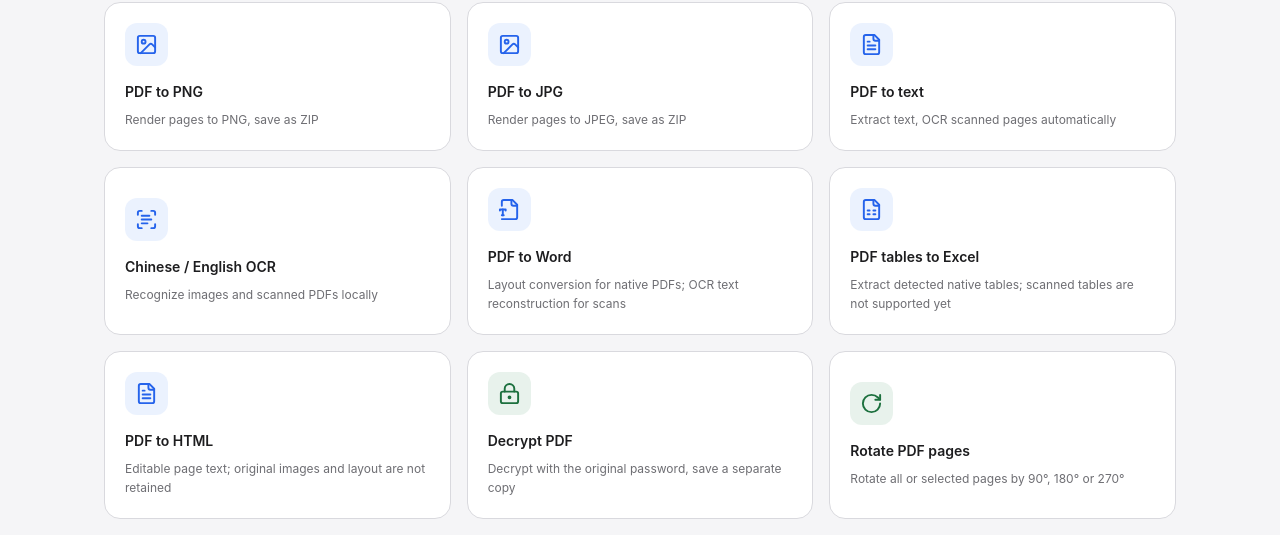
Test: PDF / OCR tools › keeps batch OCR results when another file fails
The width and height of the screenshot is (1280, 535).
(page scrolled)
Click the button "Chinese / English OCR" at [146, 219], box [104,167,451,335]
(page scrolled)
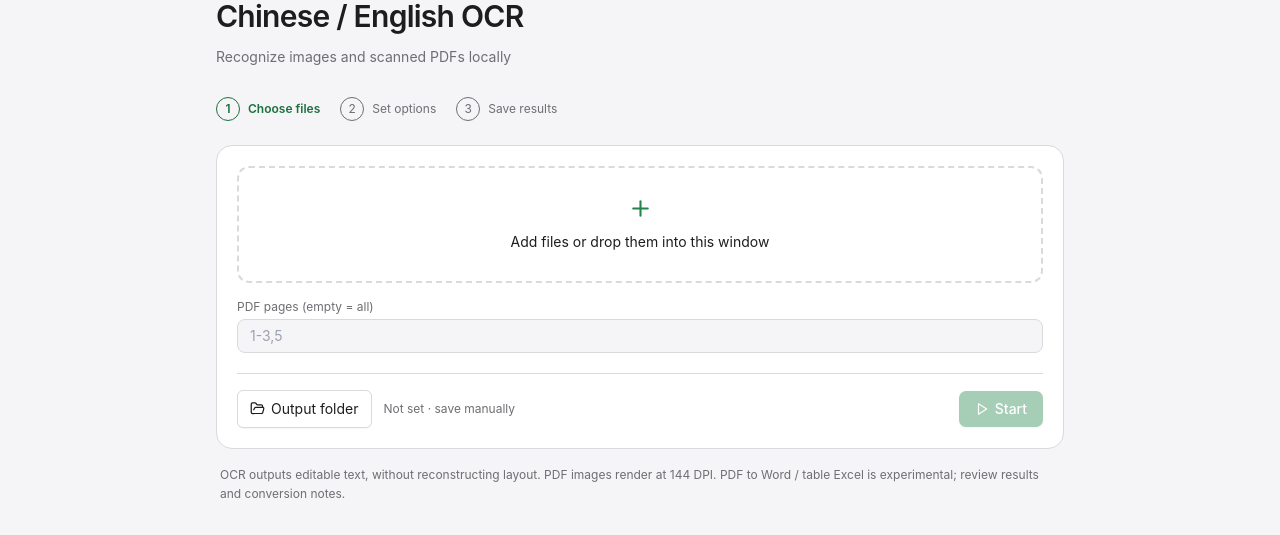
Click the button "Add files or drop them into this window" at [640, 241], box [237,166,1043,283]
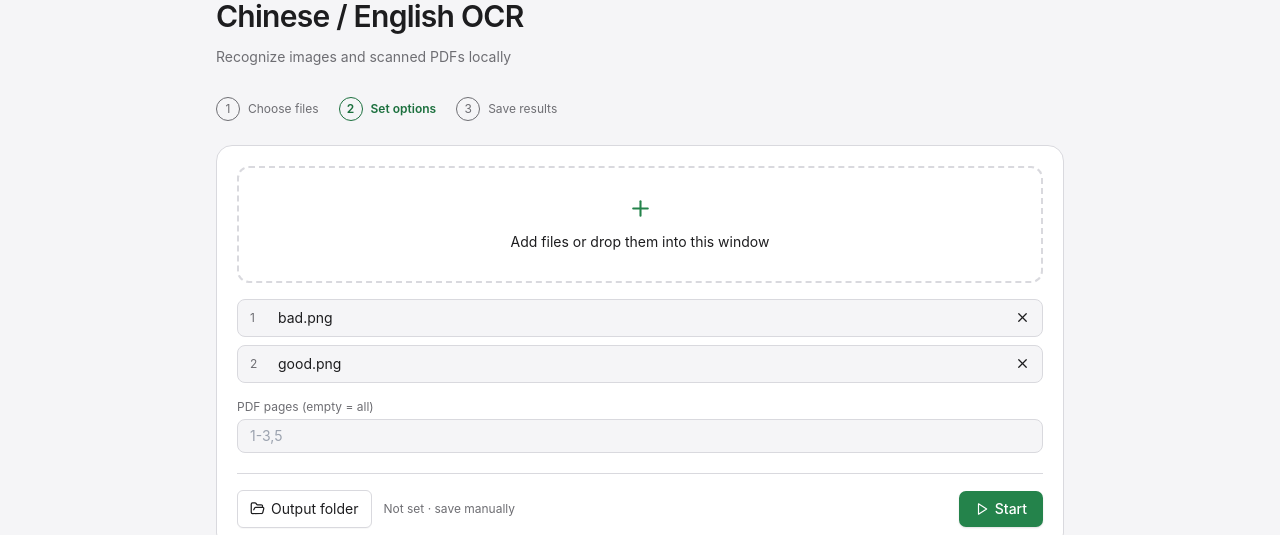
Result: the text "good.png" is shown at [278,355,341,372]
Click the button "Start" at [1001, 509], box [959,491,1043,527]
(page scrolled)
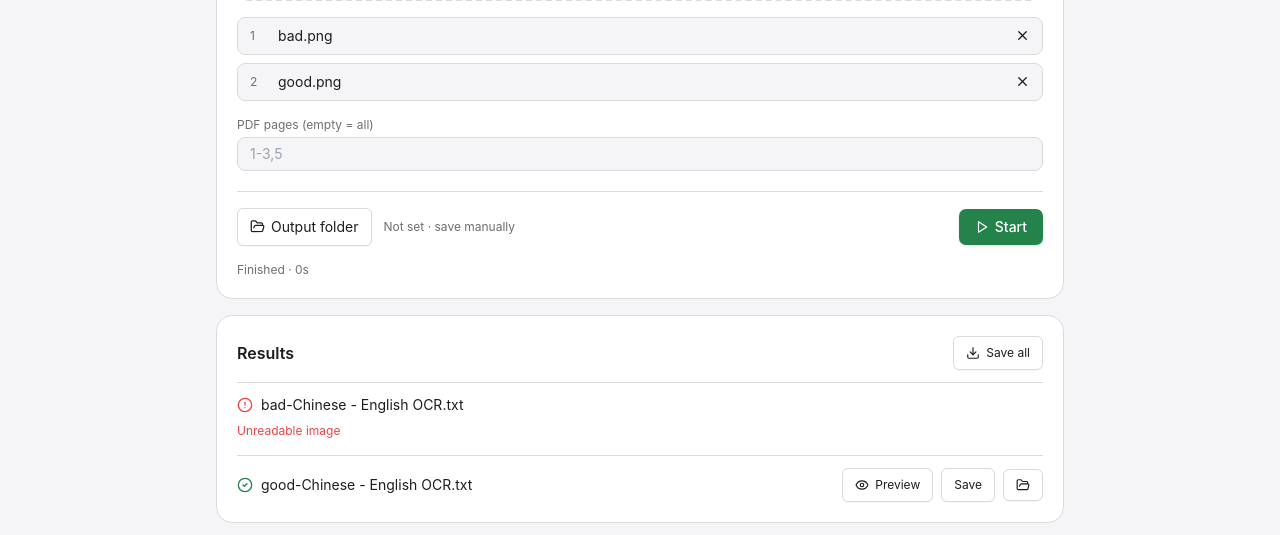
Result: the text "Unreadable image" is shown at [237,423,340,438]
Result: the text "good-Chinese - English OCR.txt" is shown at [261,476,472,493]
